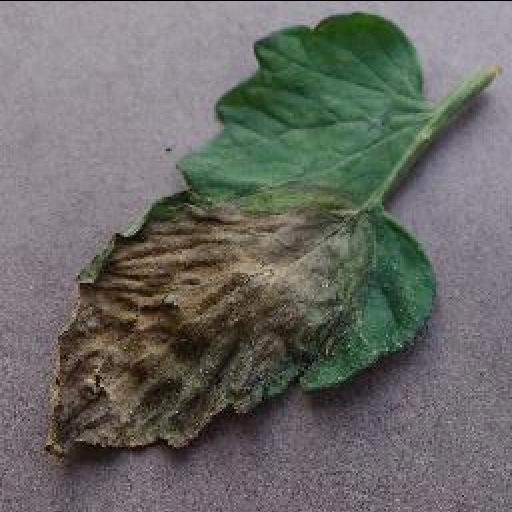disease_tomato: (42, 10, 436, 456)
